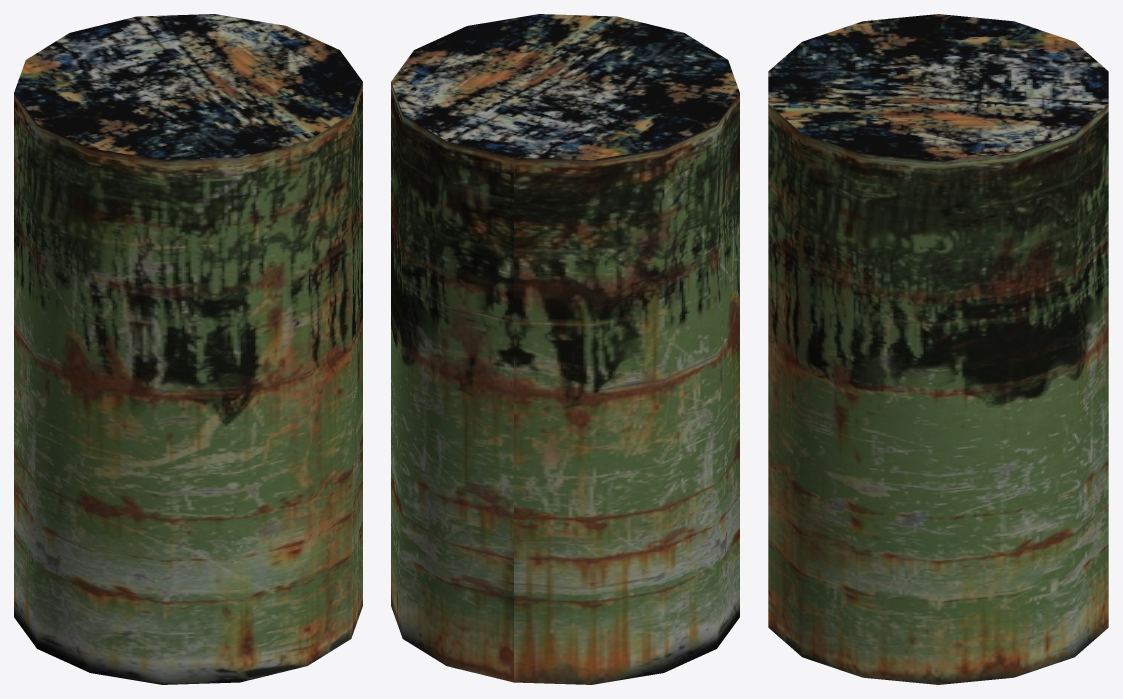
Rendered from box_metal_barrel01.dae.
3 views of the same model, side by side, from view 1: azimuth 30°, elevation 25°; view 2: azimuth 150°, elevation 25°; view 3: azimuth 270°, elevation 25° (orthographic).
Parts seen in each view (by area): view 1: barrel; view 2: barrel; view 3: barrel.
Part boxes in pixels (bbox=[...]): barrel: bbox=[14, 14, 362, 684]; barrel: bbox=[391, 14, 739, 684]; barrel: bbox=[768, 14, 1108, 684].
Size of what is drawn, in the model's own units: 0.551 by 0.9125 by 0.5372.
